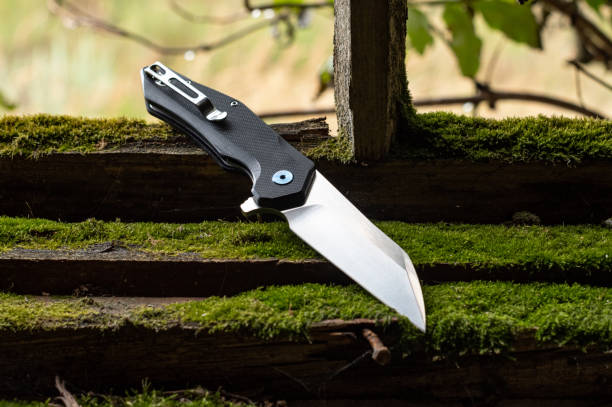knife: (137, 58, 429, 335)
